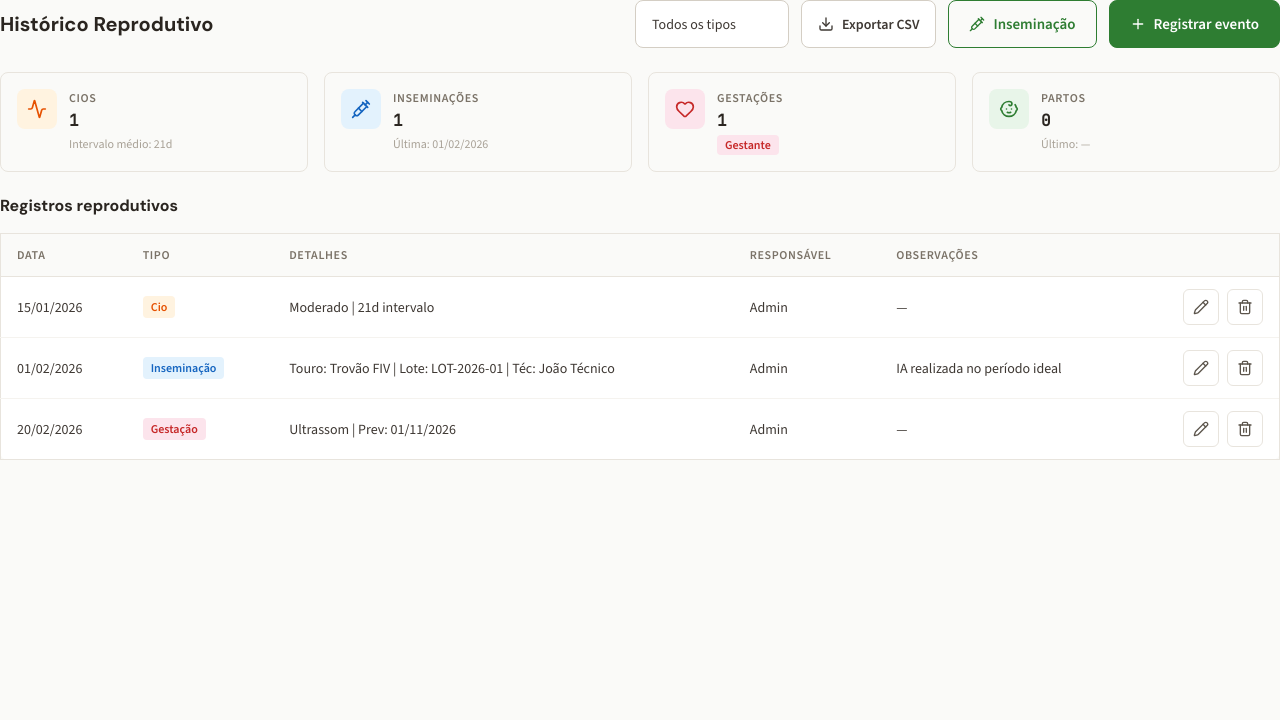
Test case: ReproductiveTab › opens create modal when clicking add button
Click the button "Registrar evento". click: (1194, 24)
box: [1109,0,1279,48]
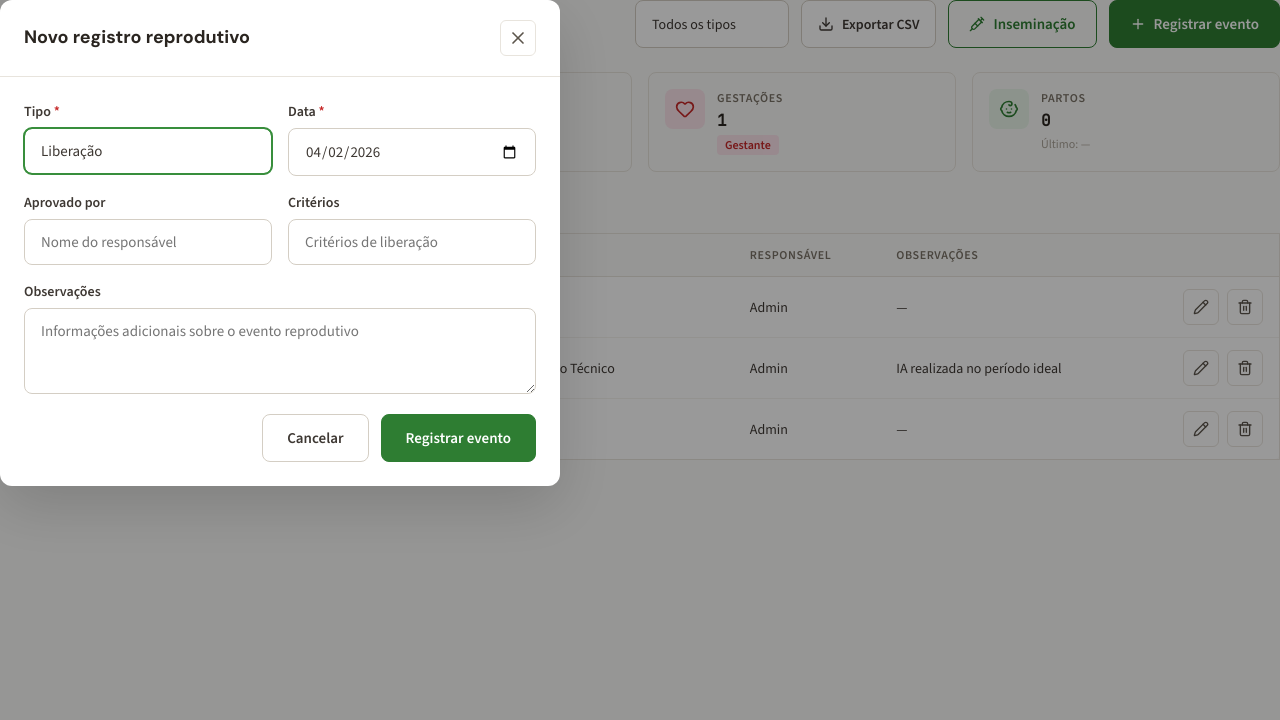
Check: the heading "Novo registro reprodutivo" is shown, box [24,26,250,50]
Check: the dropdown labelled "Tipo *" is shown, box [24,128,272,174]
